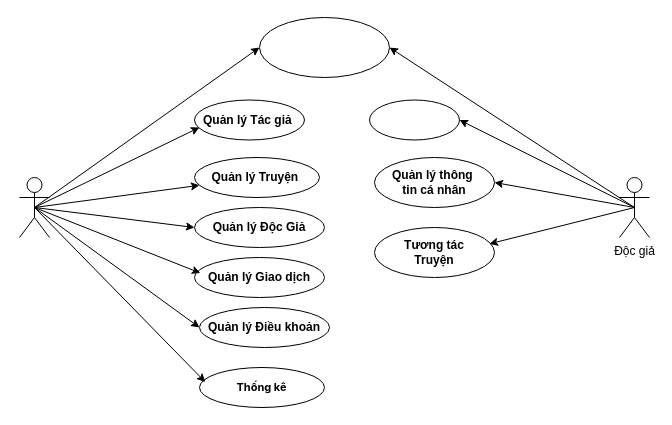
The diagram is 672 pixels wide and 425 high, and some of its shapes have lost their labels. The shapes that lost their labels are listed below. From the top down, each one's centre as x and y in pixels, then its label:
At [324,47]: "Đăng nhập".
At [414,119]: "Đăng ký".
At [34,207]: "Admin".
